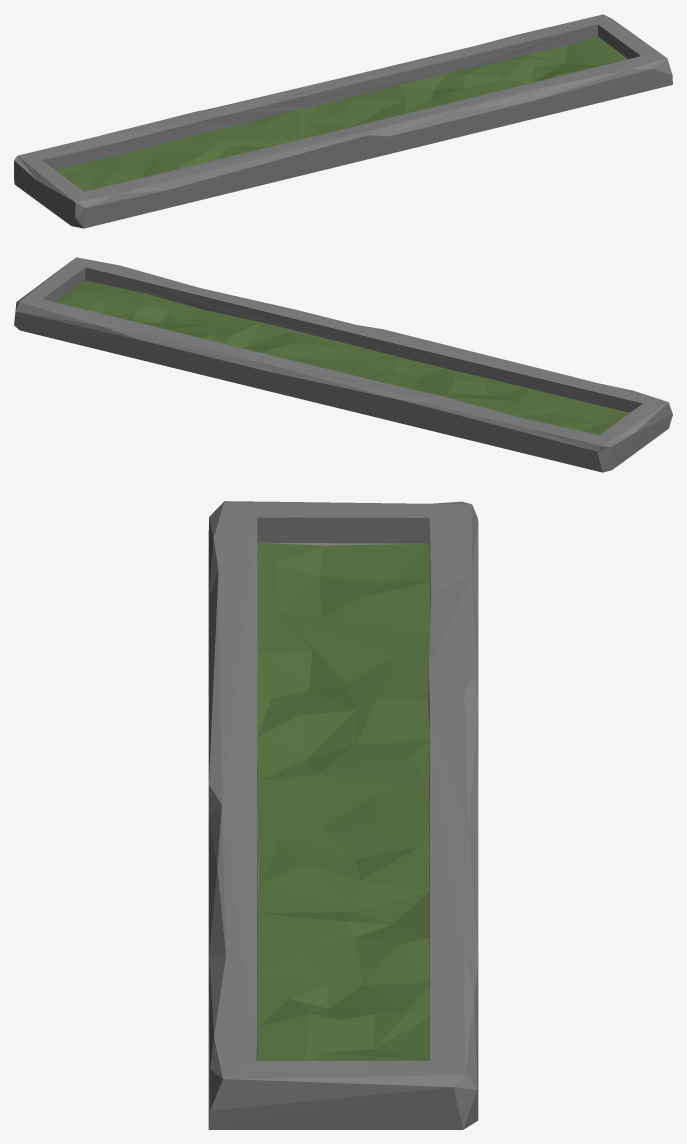
File: castle_green_belt_a.FBX
3 views of the same model, one above another, from view 1: azimuth 30°, elevation 25°; view 2: azimuth 150°, elevation 25°; view 3: azimuth 270°, elevation 25° (orthographic). The views are drawn at different scales.
Parts seen in each view (by area): view 1: castle_green_belt_a; view 2: castle_green_belt_a; view 3: castle_green_belt_a.
Boxes of the visible parts, box(x1,y1,x2,y2) form: castle_green_belt_a: box(14, 14, 672, 228); castle_green_belt_a: box(14, 257, 672, 472); castle_green_belt_a: box(208, 501, 478, 1129).
Bounding box in the file's own units: 15.88 × 0.6551 × 3.11.
